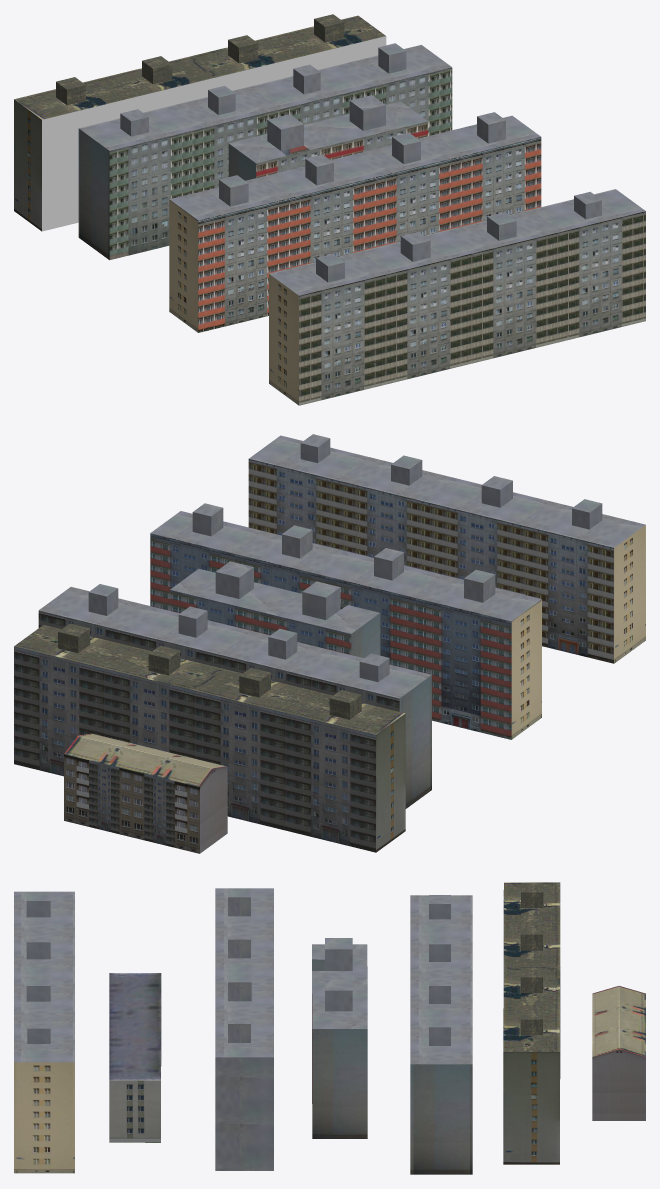
Rendered from majad.dae.
The picture shows the model from 3 angles, top to bottom: view 1: azimuth 30°, elevation 25°; view 2: azimuth 150°, elevation 25°; view 3: azimuth 270°, elevation 25°; orthographic projection. The views are drawn at different scales.
Parts seen in each view (by area): view 1: maja7, maja5, maja3, maja2, maja4; view 2: maja2, maja7, maja5, maja3, maja1, maja4; view 3: maja3, maja7, maja5, maja2, maja4, maja6, maja1.
Boxes of the visible parts, <box> form: maja7: <box>269,189,645,405</box>; maja5: <box>169,112,541,332</box>; maja3: <box>78,43,452,260</box>; maja2: <box>14,14,386,231</box>; maja4: <box>228,95,428,180</box>; maja2: <box>14,623,405,852</box>; maja7: <box>248,434,645,663</box>; maja5: <box>150,503,541,739</box>; maja3: <box>38,584,431,808</box>; maja1: <box>64,733,227,853</box>; maja4: <box>170,561,380,657</box>; maja3: <box>410,895,472,1174</box>; maja7: <box>14,891,74,1173</box>; maja5: <box>215,888,273,1170</box>; maja2: <box>503,882,560,1164</box>; maja4: <box>312,938,367,1138</box>; maja6: <box>109,973,161,1142</box>; maja1: <box>592,986,645,1120</box>.
Bounding box in the file's own units: 95.16 × 142 × 33.8.
